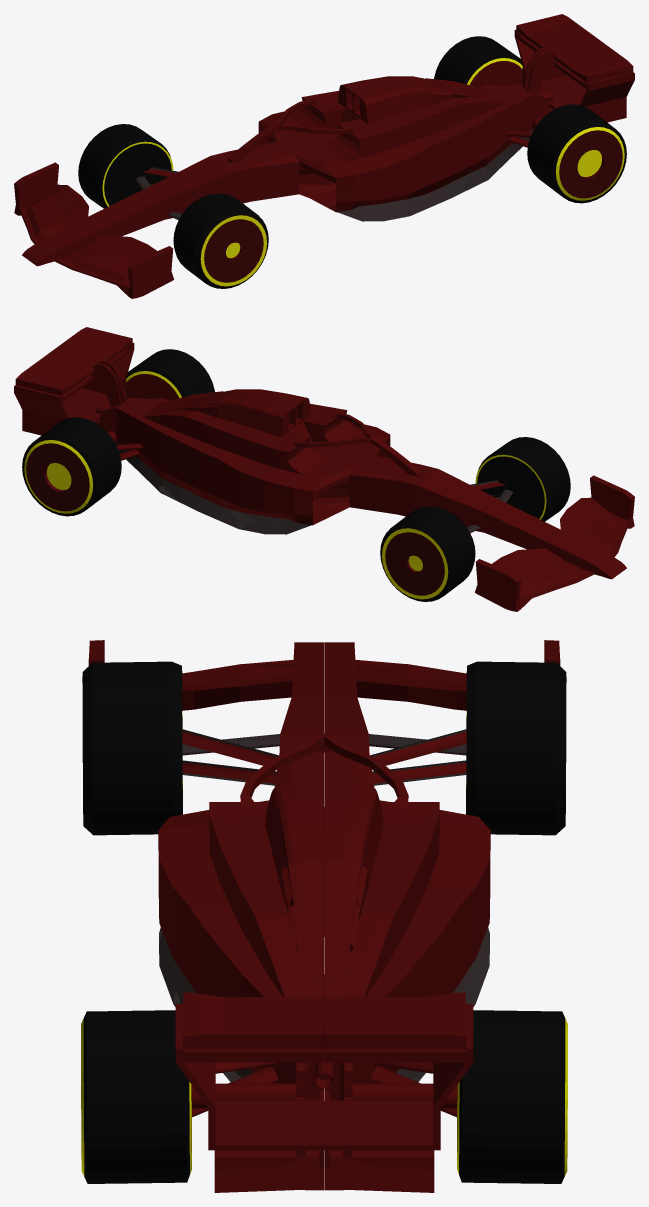
Rendered from f1car.glb.
3 renders of one model, top to bottom at view 1: azimuth 30°, elevation 25°; view 2: azimuth 150°, elevation 25°; view 3: azimuth 270°, elevation 25°, orthographic. The views are drawn at different scales.
Visible parts, largest first — view 1: Cube.001; view 2: Cube.001; view 3: Cube.001.
Boxes of the visible parts, x1,y1,x2,y2 form: Cube.001: [14, 14, 634, 298]; Cube.001: [14, 327, 634, 611]; Cube.001: [81, 640, 567, 1192].
Size of the model in its own units: 4.67 by 0.861 by 1.73.
